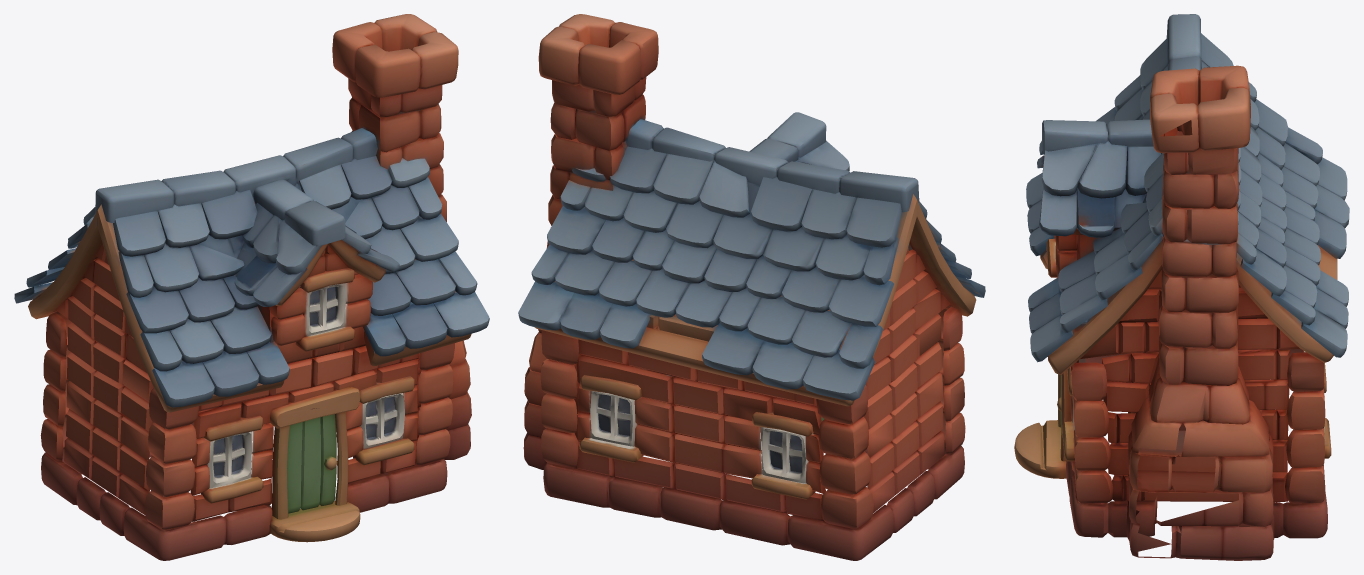
The model's file is brick_house.glb.
3 views of the same model, side by side, from view 1: azimuth 30°, elevation 25°; view 2: azimuth 150°, elevation 25°; view 3: azimuth 270°, elevation 25° (orthographic). The views are drawn at different scales.
Visible parts, largest first — view 1: brick_house; view 2: brick_house; view 3: brick_house.
Boxes of the visible parts, bbox=[...] form: brick_house: bbox=[14, 14, 489, 560]; brick_house: bbox=[518, 14, 985, 560]; brick_house: bbox=[1014, 14, 1349, 560].
Size of the model in its own units: 9.67 by 10.43 by 7.
1 material, 1 textured.
